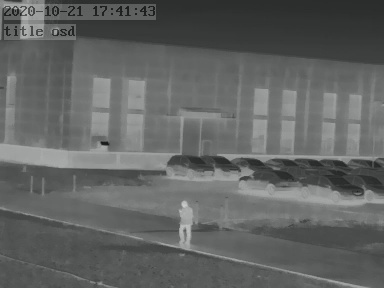person: (178, 200, 193, 244)
vehicle: (236, 169, 302, 194), (307, 173, 360, 200), (164, 152, 212, 179), (204, 153, 242, 177), (349, 173, 382, 200), (233, 154, 270, 171), (261, 155, 296, 170), (348, 156, 380, 170), (318, 156, 347, 169), (296, 156, 325, 169)
